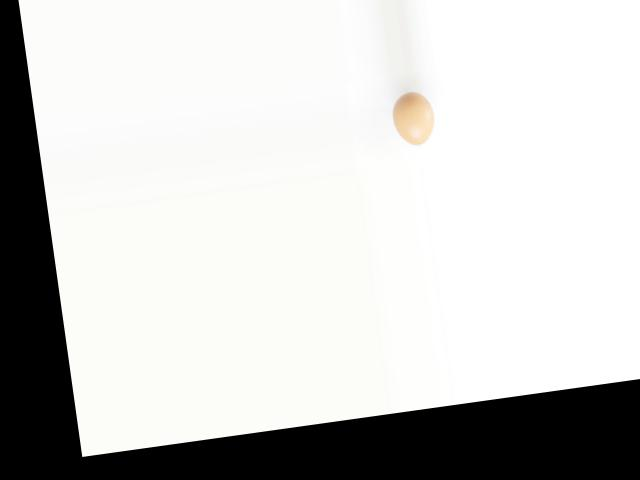egg: (388, 88, 436, 148)
